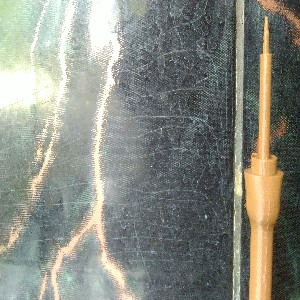solder: (244, 14, 284, 300)
